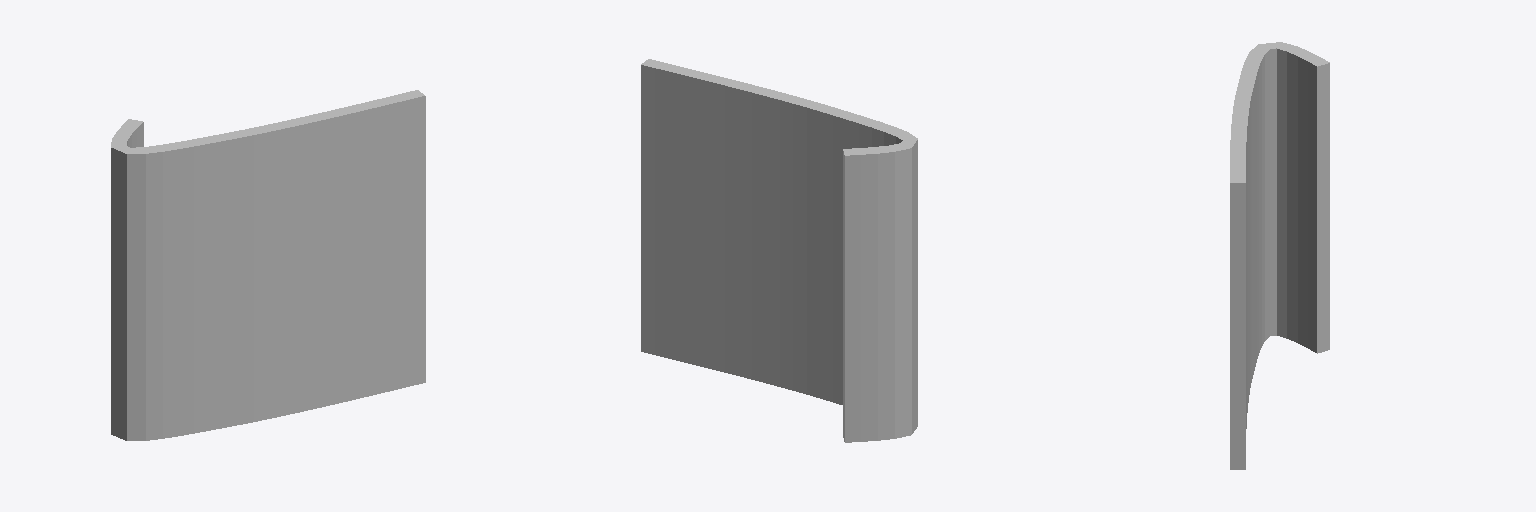
The model's file is EdgeFold2.obj.
3 renders of one model, left to right at view 1: azimuth 30°, elevation 25°; view 2: azimuth 150°, elevation 25°; view 3: azimuth 270°, elevation 25°, orthographic.
Visible parts, largest first — view 1: Cube; view 2: Cube; view 3: Cube.
Boxes of the visible parts, x1=… form: Cube: x1=111, y1=90, x2=425, y2=440; Cube: x1=641, y1=59, x2=917, y2=442; Cube: x1=1230, y1=42, x2=1329, y2=469.
Size of the model in its own units: 5.1 by 4.84 by 1.54.